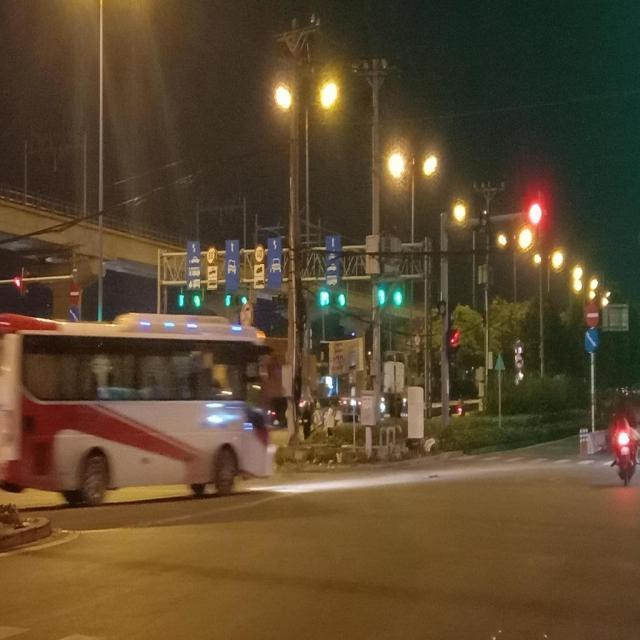102-cam-di-nguoc-chieu: (584, 303, 600, 327), (68, 284, 82, 302)
106-cam-oto-tai: (516, 354, 524, 372)
127-toc-do-toi-da-60: (255, 245, 266, 263)
127-toc-do-toi-da-80: (206, 245, 217, 264)
302a-huong-phai-di-vong-chuong-ngai-vat-1: (584, 329, 598, 351), (68, 307, 80, 320)
